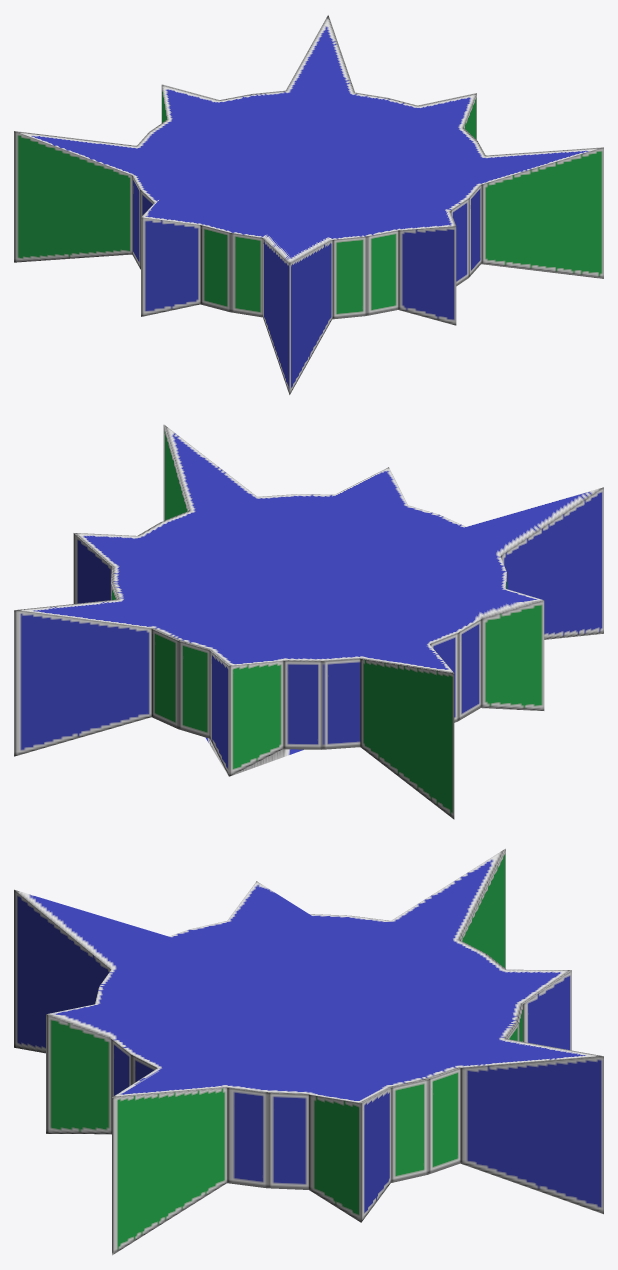
The model's file is spawner.obj.
3 views of the same model, one above another, from view 1: azimuth 30°, elevation 25°; view 2: azimuth 150°, elevation 25°; view 3: azimuth 270°, elevation 25° (orthographic). The views are drawn at different scales.
Parts seen in each view (by area): view 1: Cylinder; view 2: Cylinder; view 3: Cylinder.
Boxes of the visible parts, x1,y1,x2,y2 form: Cylinder: [14, 15, 603, 394]; Cylinder: [14, 424, 603, 819]; Cylinder: [14, 848, 603, 1255].
Bounding box in the file's own units: 2.76 × 0.8154 × 2.76.
